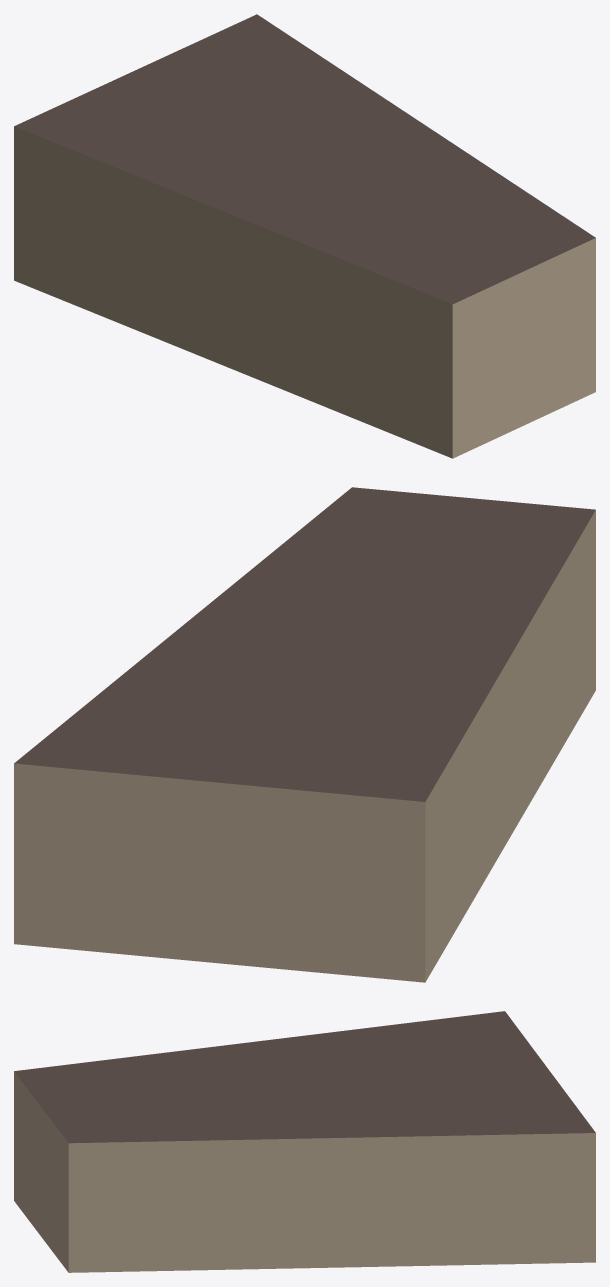
The picture shows the model from 3 angles, top to bottom: view 1: azimuth 30°, elevation 25°; view 2: azimuth 150°, elevation 25°; view 3: azimuth 270°, elevation 25°; orthographic projection. The views are drawn at different scales.
Visible parts, largest first — view 1: HP-w859467719; view 2: HP-w859467719; view 3: HP-w859467719.
Part boxes in pixels (bbox=[...]): HP-w859467719: bbox=[14, 14, 595, 458]; HP-w859467719: bbox=[14, 487, 595, 982]; HP-w859467719: bbox=[14, 1011, 595, 1272].
Bounding box in the file's own units: 19.68 × 9 × 36.62.
